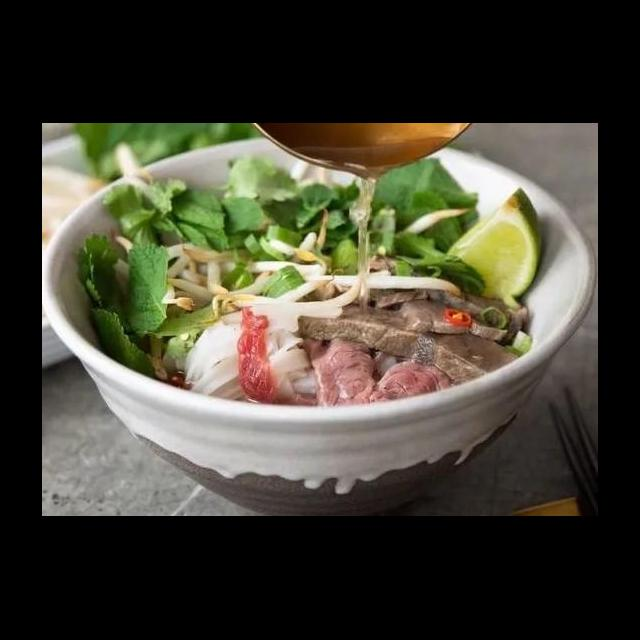banh pho: (264, 294, 323, 410), (179, 310, 244, 410)
pho bo: (46, 158, 598, 496)
thit bo: (294, 300, 527, 392), (394, 280, 513, 346), (294, 324, 381, 414), (234, 304, 280, 411), (369, 358, 456, 409)
